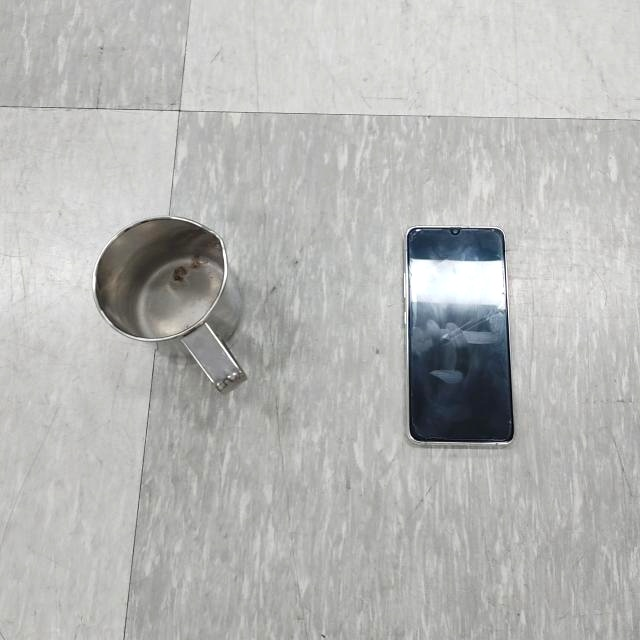cup: (93, 213, 249, 403)
phone: (405, 223, 517, 449)
